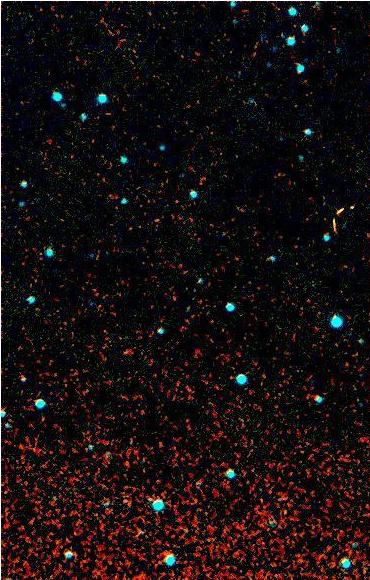star: (114, 450, 144, 480)
